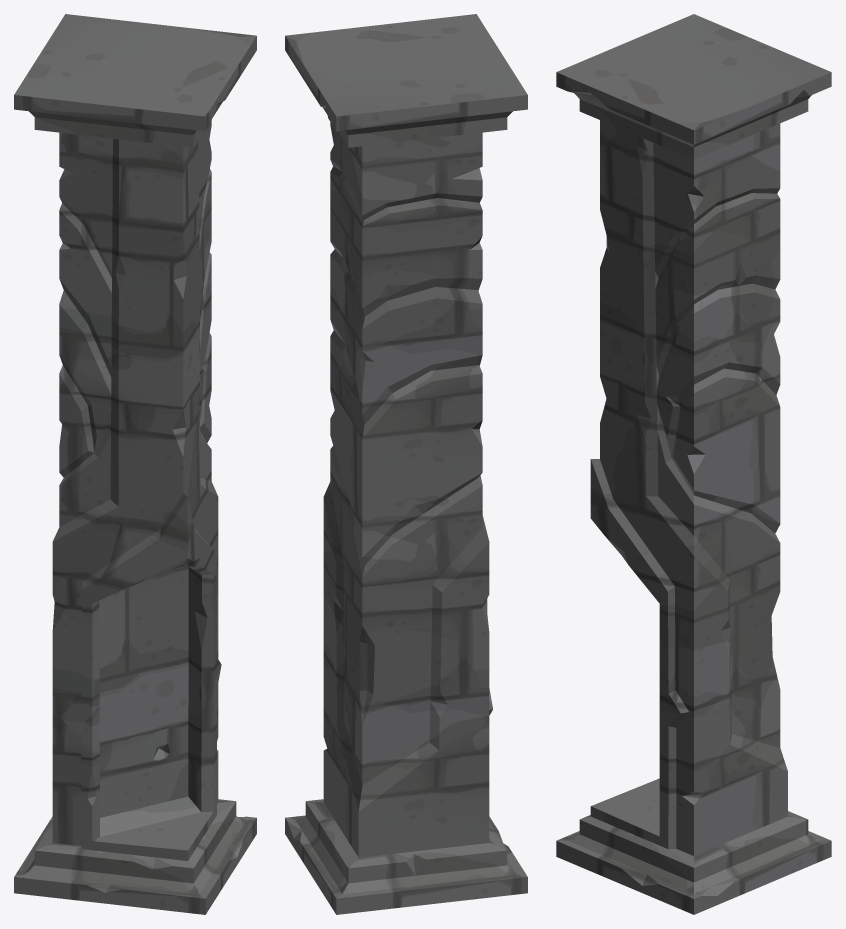
Rendered from SM_Bld_L_Pillar_05.fbx.
3 renders of one model, left to right at view 1: azimuth 30°, elevation 25°; view 2: azimuth 150°, elevation 25°; view 3: azimuth 270°, elevation 25°, orthographic.
Parts seen in each view (by area): view 1: SM_Bld_L_Pillar_05; view 2: SM_Bld_L_Pillar_05; view 3: SM_Bld_L_Pillar_05.
Part boxes in pixels (x1=…): SM_Bld_L_Pillar_05: x1=14, y1=14, x2=256, y2=914; SM_Bld_L_Pillar_05: x1=285, y1=14, x2=527, y2=914; SM_Bld_L_Pillar_05: x1=556, y1=14, x2=831, y2=914.
Size of the model in its own units: 191 by 600 by 191.
1 material, 1 textured.
